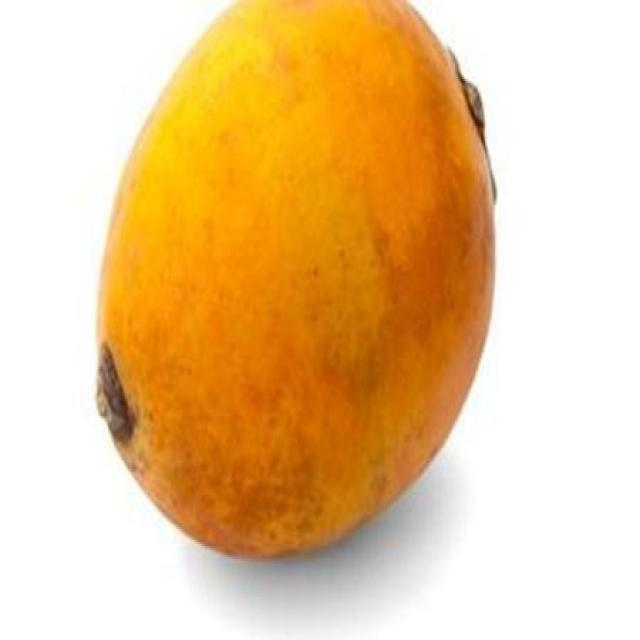good: (94, 0, 498, 561)
